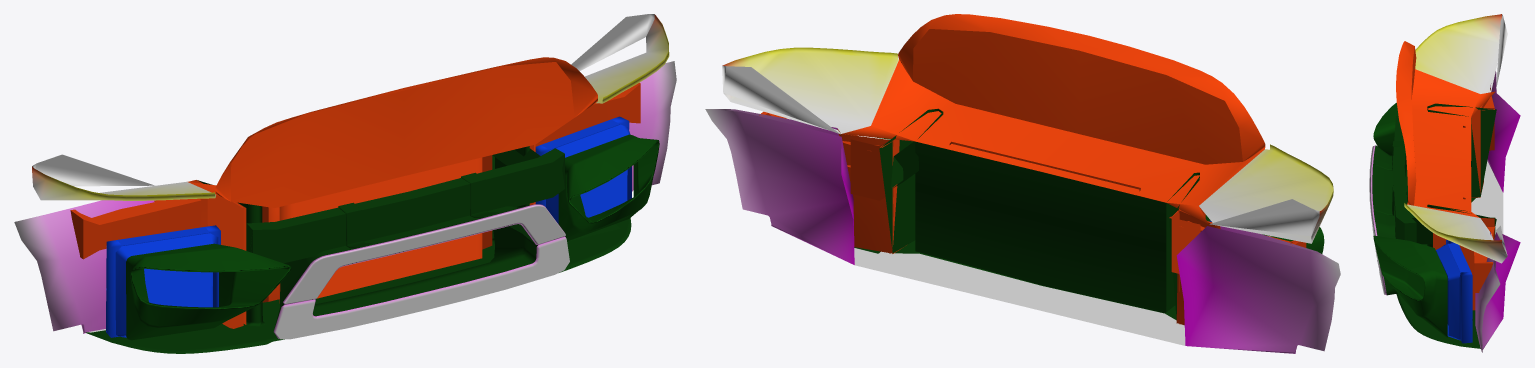
Rendered from Car_Mini_CountrymanJCW_2017_BumperChassisF_SetE_AltB.fbx.
3 renders of one model, left to right at view 1: azimuth 30°, elevation 25°; view 2: azimuth 150°, elevation 25°; view 3: azimuth 270°, elevation 25°, orthographic. The views are drawn at different scales.
Parts seen in each view (by area): view 1: BumperChassisF 6; view 2: BumperChassisF 6; view 3: BumperChassisF 6.
Boxes of the visible parts, x1,y1,x2,y2 form: BumperChassisF 6: (14, 14, 676, 353); BumperChassisF 6: (705, 14, 1340, 353); BumperChassisF 6: (1369, 14, 1520, 352).
Size of the model in its own units: 1.84 by 0.6085 by 0.4917.
